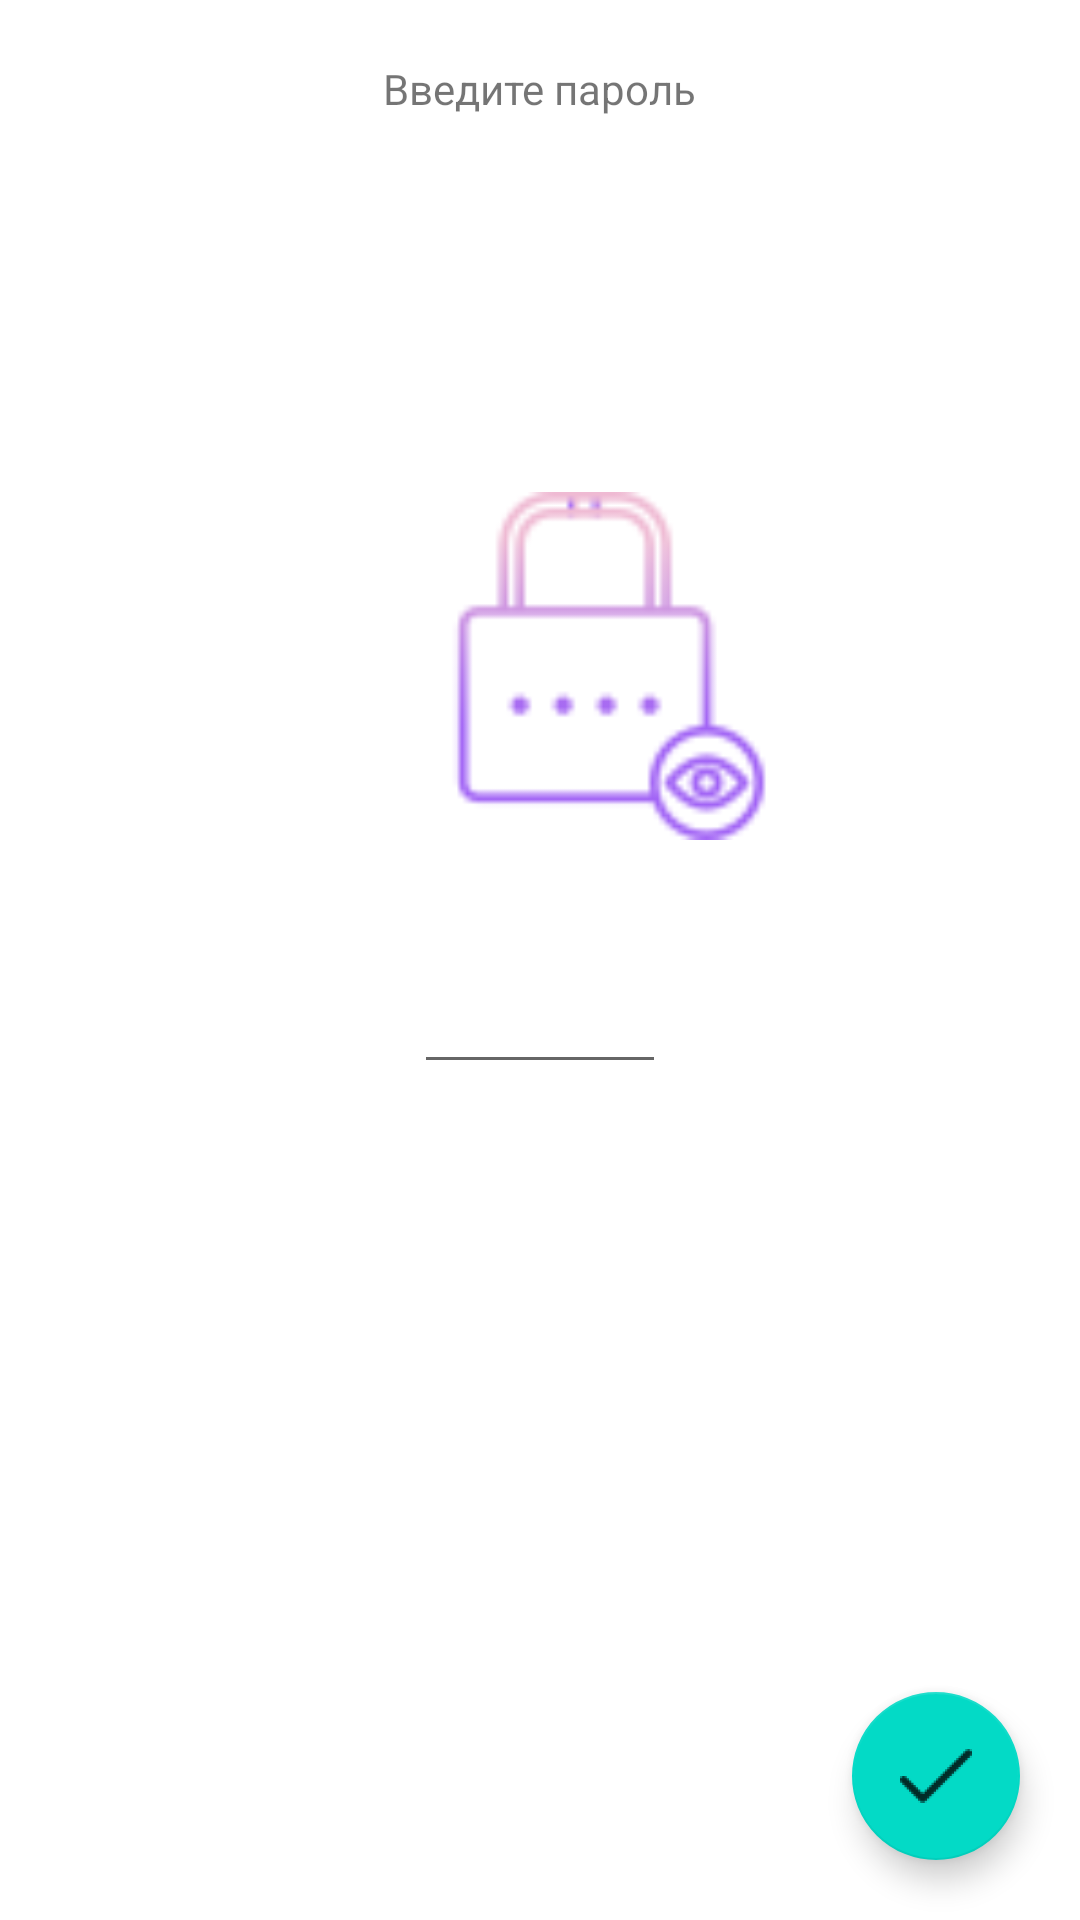

Screen size 1080×1920. Icon name, then its box in pixels as region(x1, y1, x2, y2):
password: region(457, 492, 766, 840)
tick: region(852, 1692, 1020, 1860)
